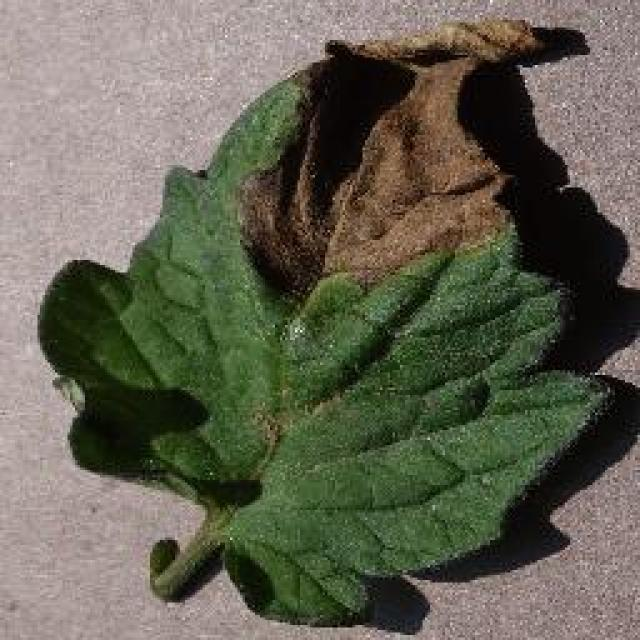leaf blight: (36, 20, 631, 623)
